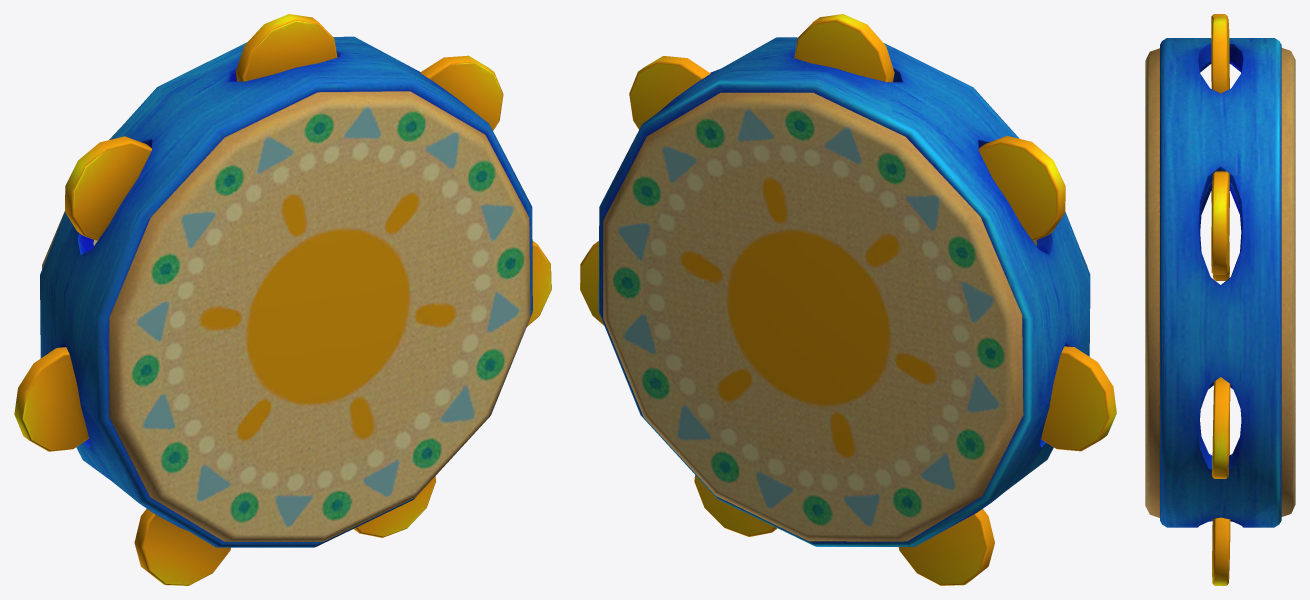
File: 0-tambourine_blue.fbx
3 renders of one model, left to right at view 1: azimuth 30°, elevation 25°; view 2: azimuth 150°, elevation 25°; view 3: azimuth 270°, elevation 25°, orthographic. The views are drawn at different scales.
Visible parts, largest first — view 1: 0-tambourine_blue; view 2: 0-tambourine_blue; view 3: 0-tambourine_blue.
Boxes of the visible parts, bbox=[...] form: 0-tambourine_blue: bbox=[14, 14, 551, 585]; 0-tambourine_blue: bbox=[580, 14, 1116, 585]; 0-tambourine_blue: bbox=[1145, 14, 1295, 585].
Size of the model in its own units: 97.58 by 95.16 by 25.22.
